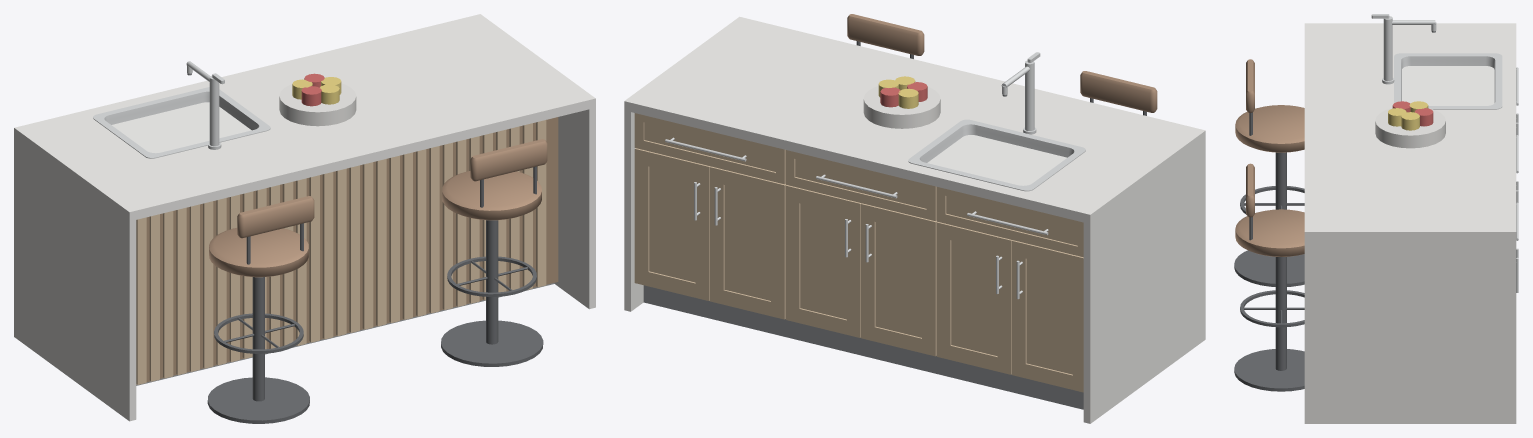
3 renders of one model, left to right at view 1: azimuth 30°, elevation 25°; view 2: azimuth 150°, elevation 25°; view 3: azimuth 270°, elevation 25°, orthographic. The views are drawn at different scales.
Parts seen in each view (by area): view 1: Đảo bếp Dài=2100; Rộng=900; view 2: Đảo bếp Dài=2100; Rộng=900; view 3: Đảo bếp Dài=2100; Rộng=900.
Boxes of the visible parts, <box> form: Đảo bếp Dài=2100; Rộng=900: <box>14,14,595,423</box>; Đảo bếp Dài=2100; Rộng=900: <box>624,14,1205,423</box>; Đảo bếp Dài=2100; Rộng=900: <box>1234,14,1518,423</box>.
Bounding box in the file's own units: 2.1 × 1.21 × 1.21.
